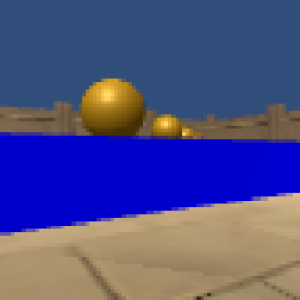goodGoalMulti: (78, 74, 146, 138), (150, 114, 181, 138), (182, 128, 202, 139)
platform: (1, 134, 299, 223)
